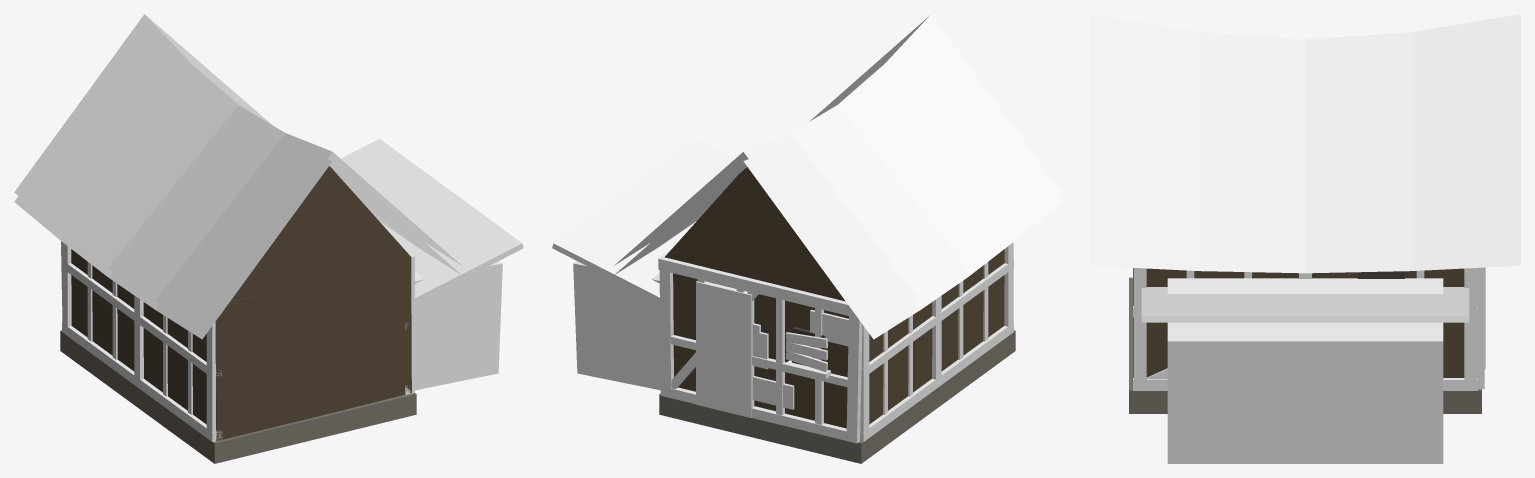
Rendered from house_hovel_b.glb.
3 views of the same model, side by side, from view 1: azimuth 30°, elevation 25°; view 2: azimuth 150°, elevation 25°; view 3: azimuth 270°, elevation 25° (orthographic). The views are drawn at different scales.
Visible parts, largest first — view 1: house_hovel_b; view 2: house_hovel_b; view 3: house_hovel_b.
Boxes of the visible parts, <box> form: house_hovel_b: <box>14,14,523,463</box>; house_hovel_b: <box>552,14,1061,463</box>; house_hovel_b: <box>1090,14,1520,463</box>.
Bounding box in the file's own units: 5.28 × 4.4 × 5.
